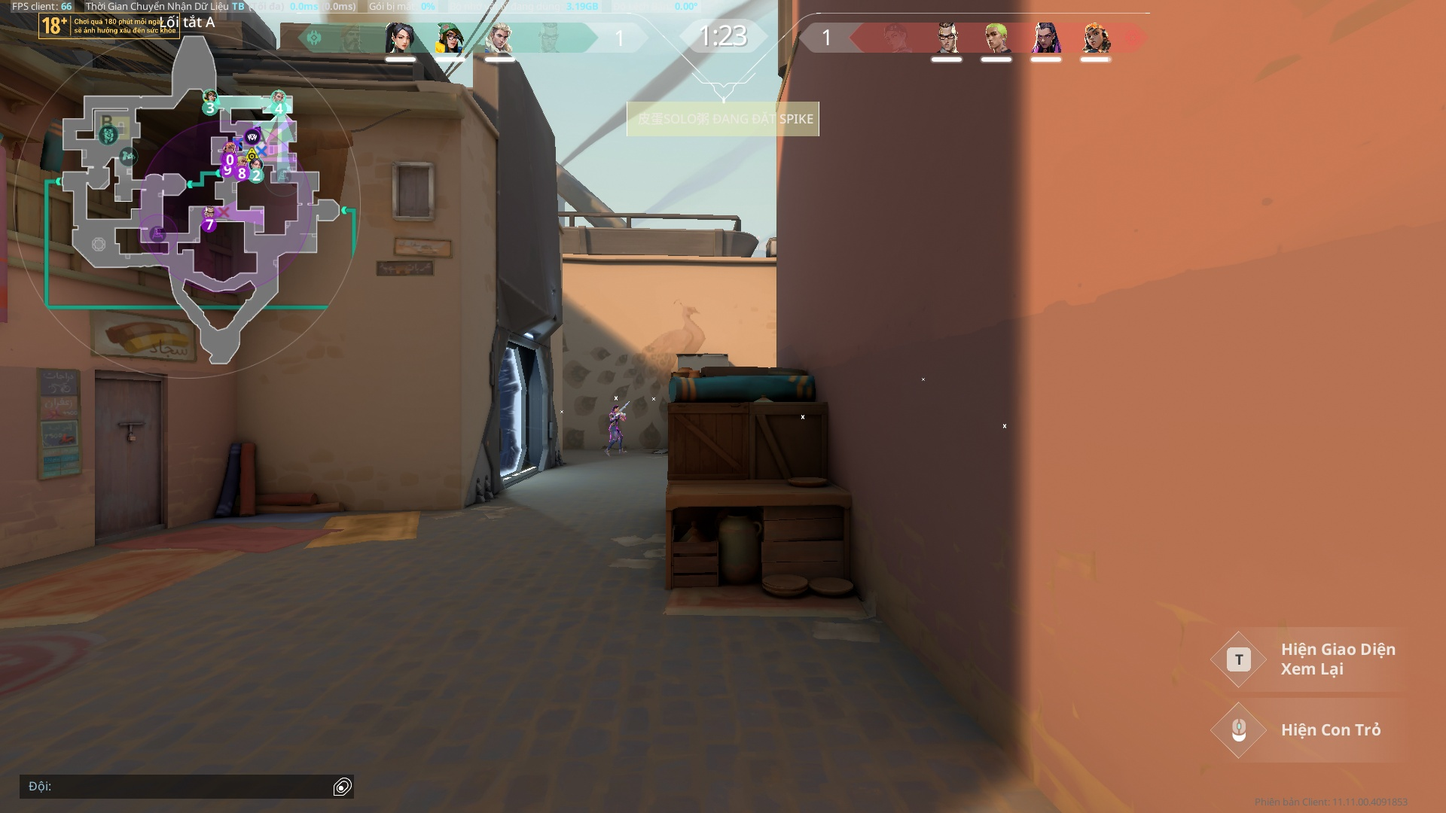body: (608, 411, 622, 428)
head: (612, 403, 619, 413)
